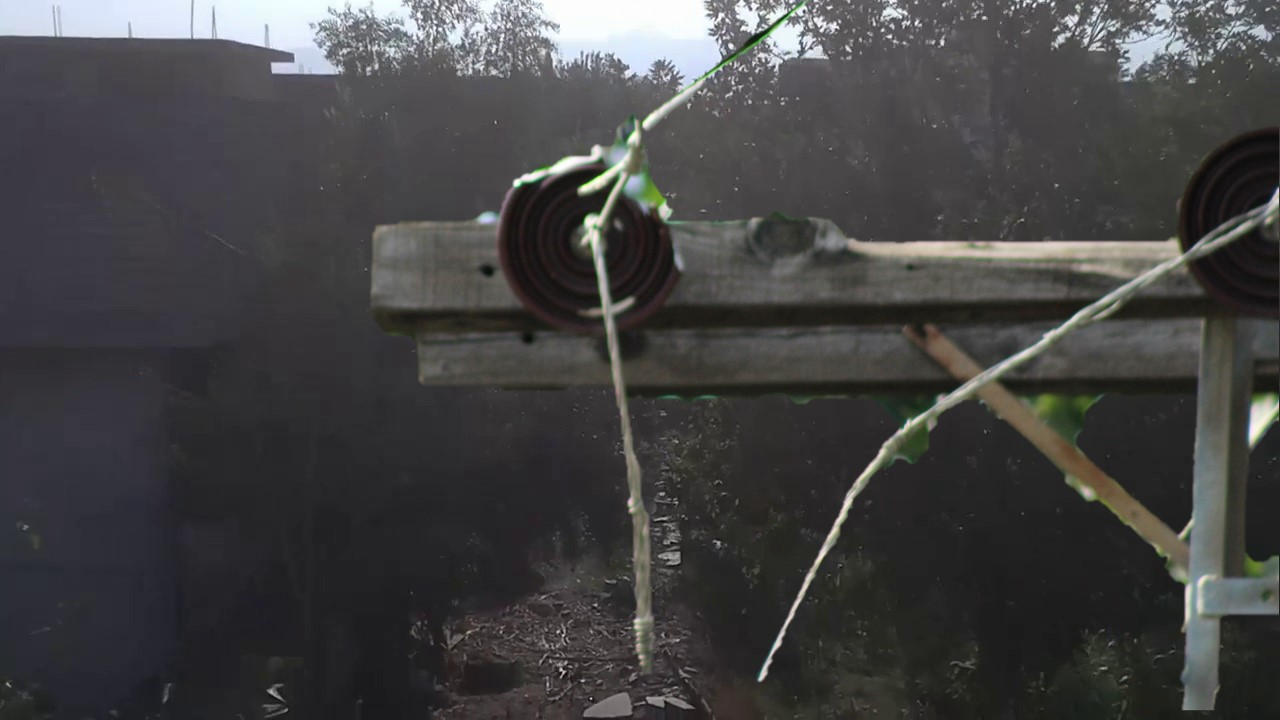defect_disc: (489, 139, 690, 343)
